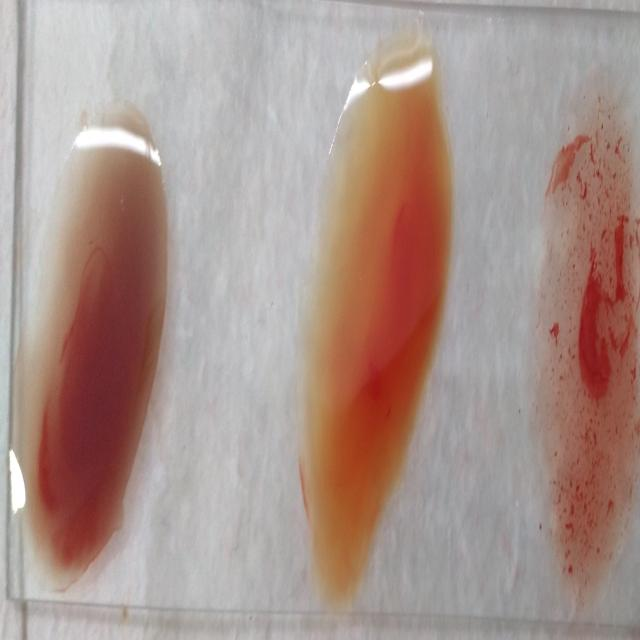D: (532, 85, 638, 583)
